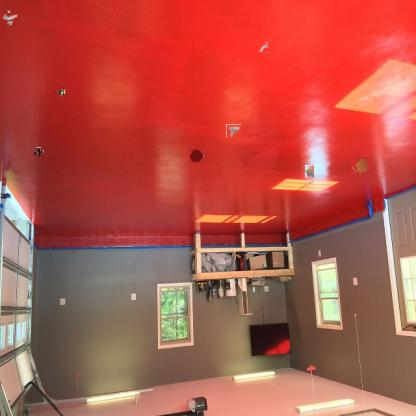dirty: (226, 124, 241, 137), (4, 11, 16, 23), (304, 165, 314, 178), (257, 42, 269, 52), (56, 86, 66, 98), (34, 149, 43, 157)
liquid: (350, 157, 368, 175), (188, 148, 204, 162)
